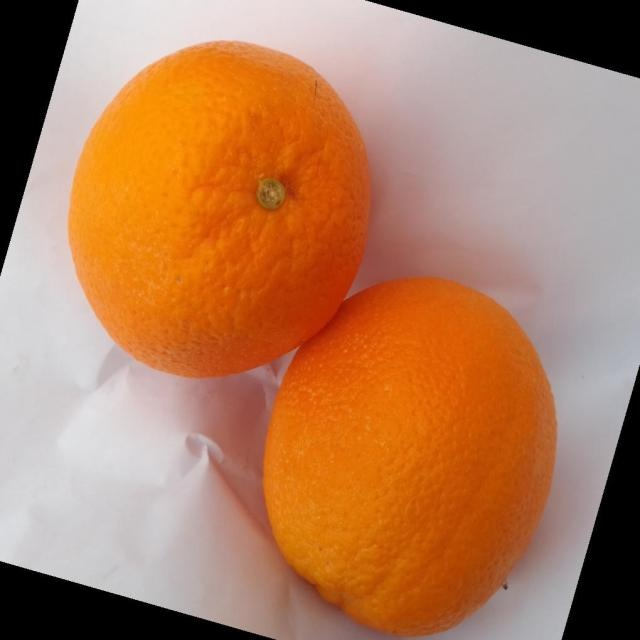agrume: (261, 274, 558, 636), (66, 38, 371, 379)
